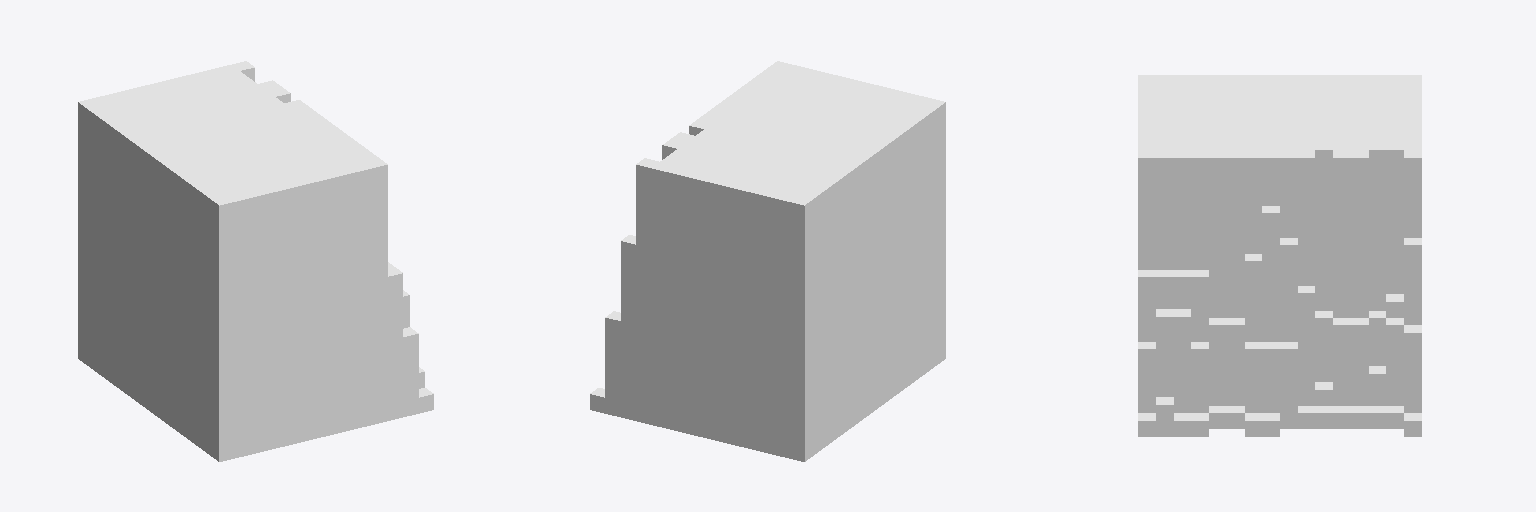
File: stone1.obj
3 renders of one model, left to right at view 1: azimuth 30°, elevation 25°; view 2: azimuth 150°, elevation 25°; view 3: azimuth 270°, elevation 25°, orthographic.
Bounding box in the file's own units: 14 × 16 × 16.